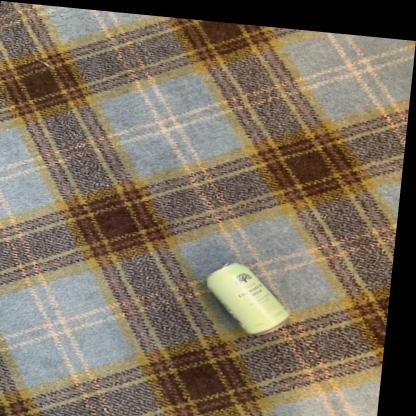trash: (207, 263, 287, 333)
